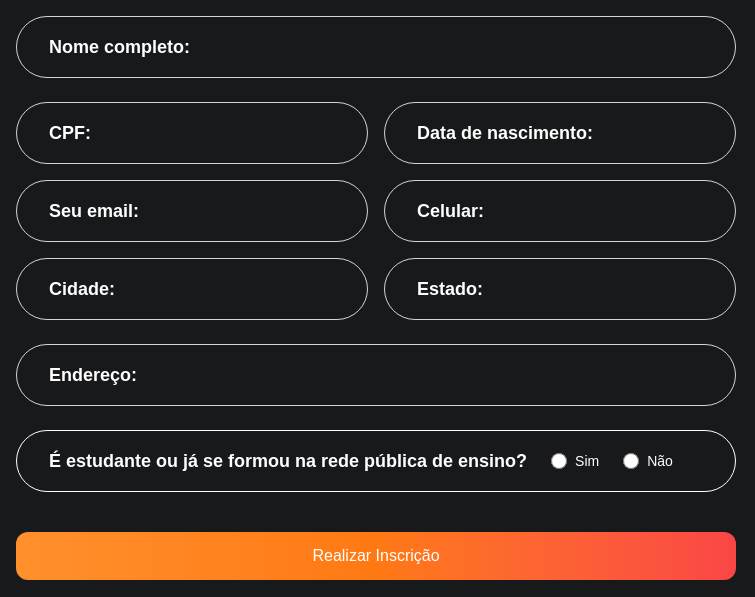
RegistrationForm Component › Form Input Formatting › should format phone input
Type "11999999999" into the field with placeholder "Celular:" at (560, 211), box [384,180,736,242]
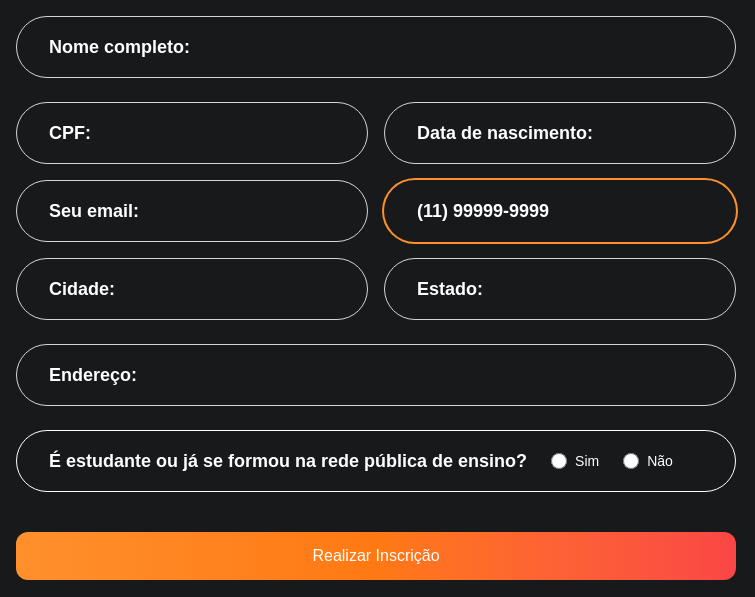
Now the field with placeholder "Celular:" holds "(11) 99999-9999", box [384,180,736,242]
